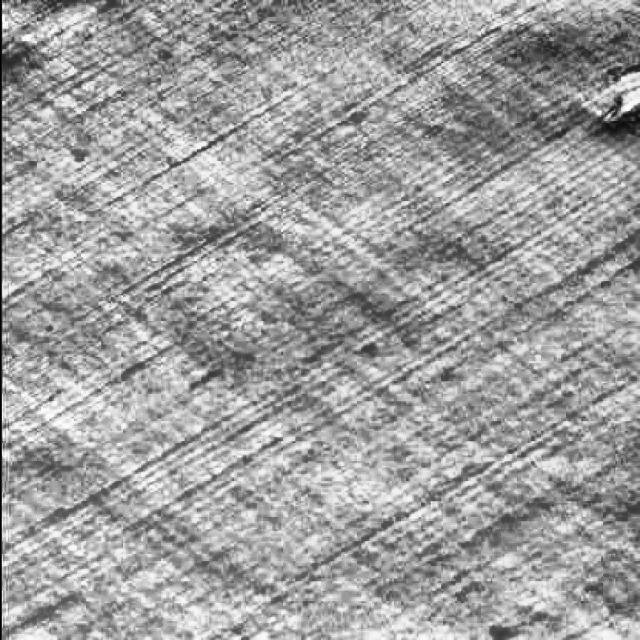hole: (574, 54, 640, 151)
